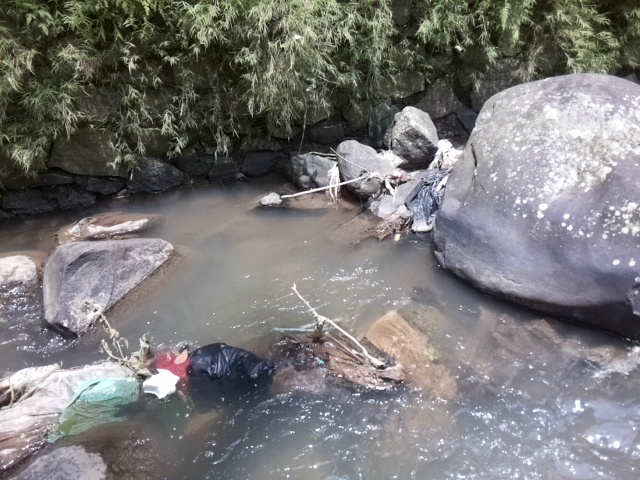Sampah_Plastik: (1, 350, 135, 458), (187, 338, 270, 392), (405, 164, 442, 238)
Sampah_Styrofoam: (142, 370, 184, 400)
